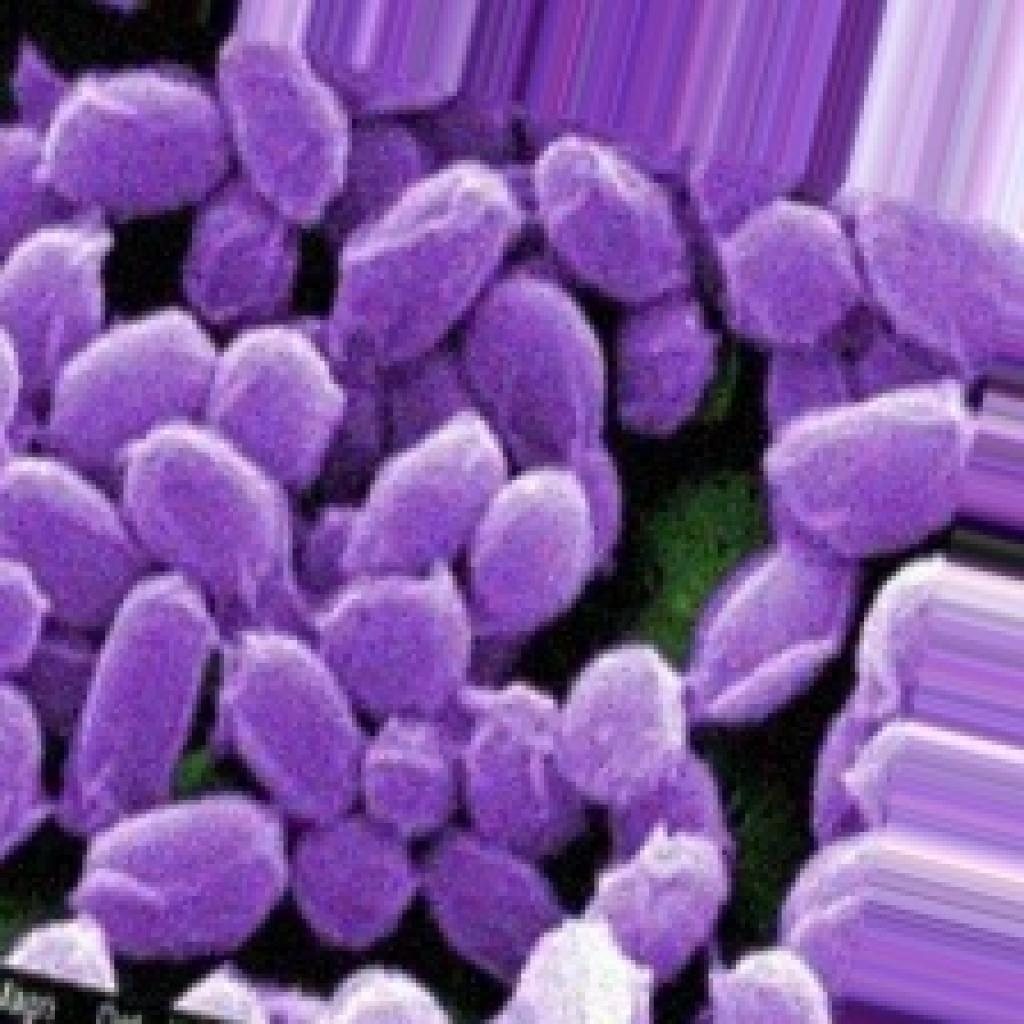Rodbacteria: (0, 22, 1019, 1019)
